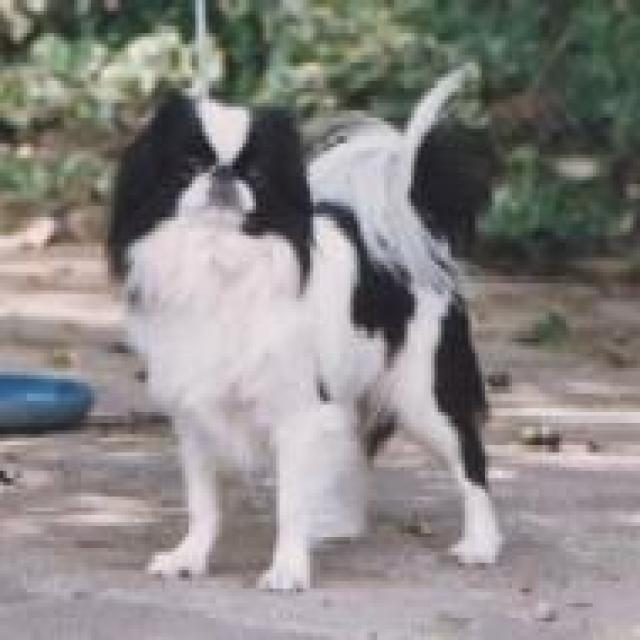husky: (108, 70, 515, 592)
